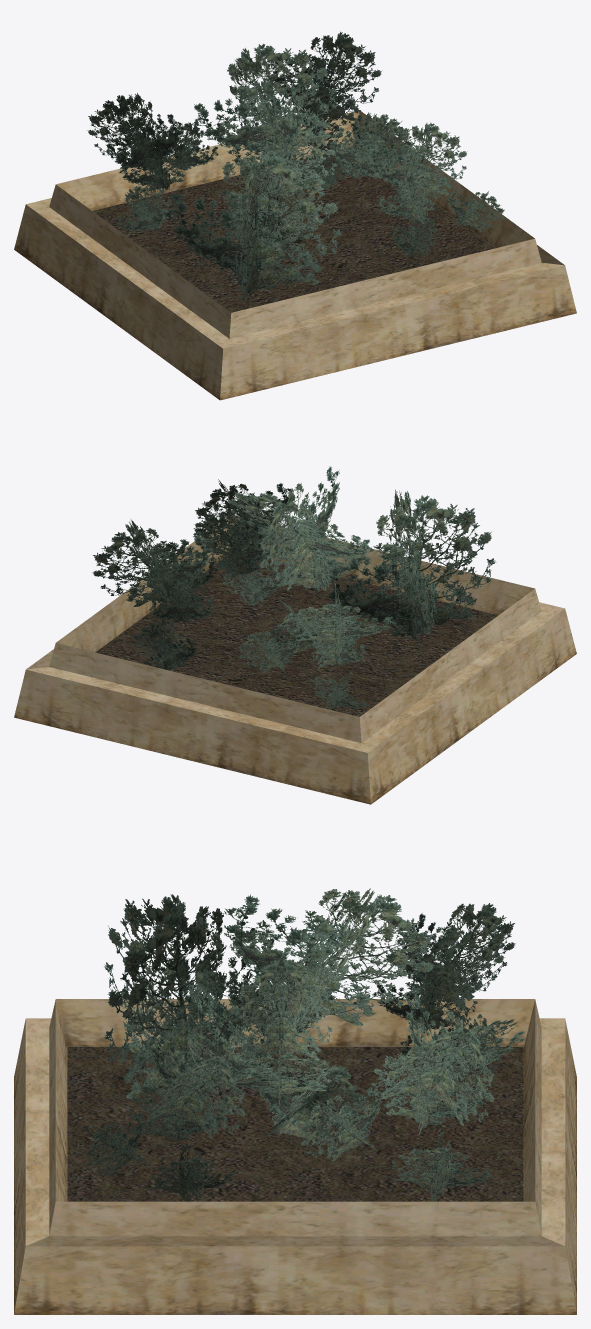
The model's file is thm_tato_orchard_s01_l1.fbx.
3 renders of one model, top to bottom at view 1: azimuth 30°, elevation 25°; view 2: azimuth 150°, elevation 25°; view 3: azimuth 270°, elevation 25°, orthographic. The views are drawn at different scales.
Parts seen in each view (by area): view 1: mesh_node; view 2: mesh_node; view 3: mesh_node.
Part boxes in pixels (bbox=[...]): mesh_node: bbox=[14, 31, 576, 400]; mesh_node: bbox=[14, 466, 576, 804]; mesh_node: bbox=[14, 888, 576, 1314].
Bounding box in the file's own units: 8 × 5.43 × 8.
1 material, 1 textured.
